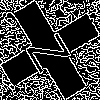Z: (25, 25, 80, 75)
